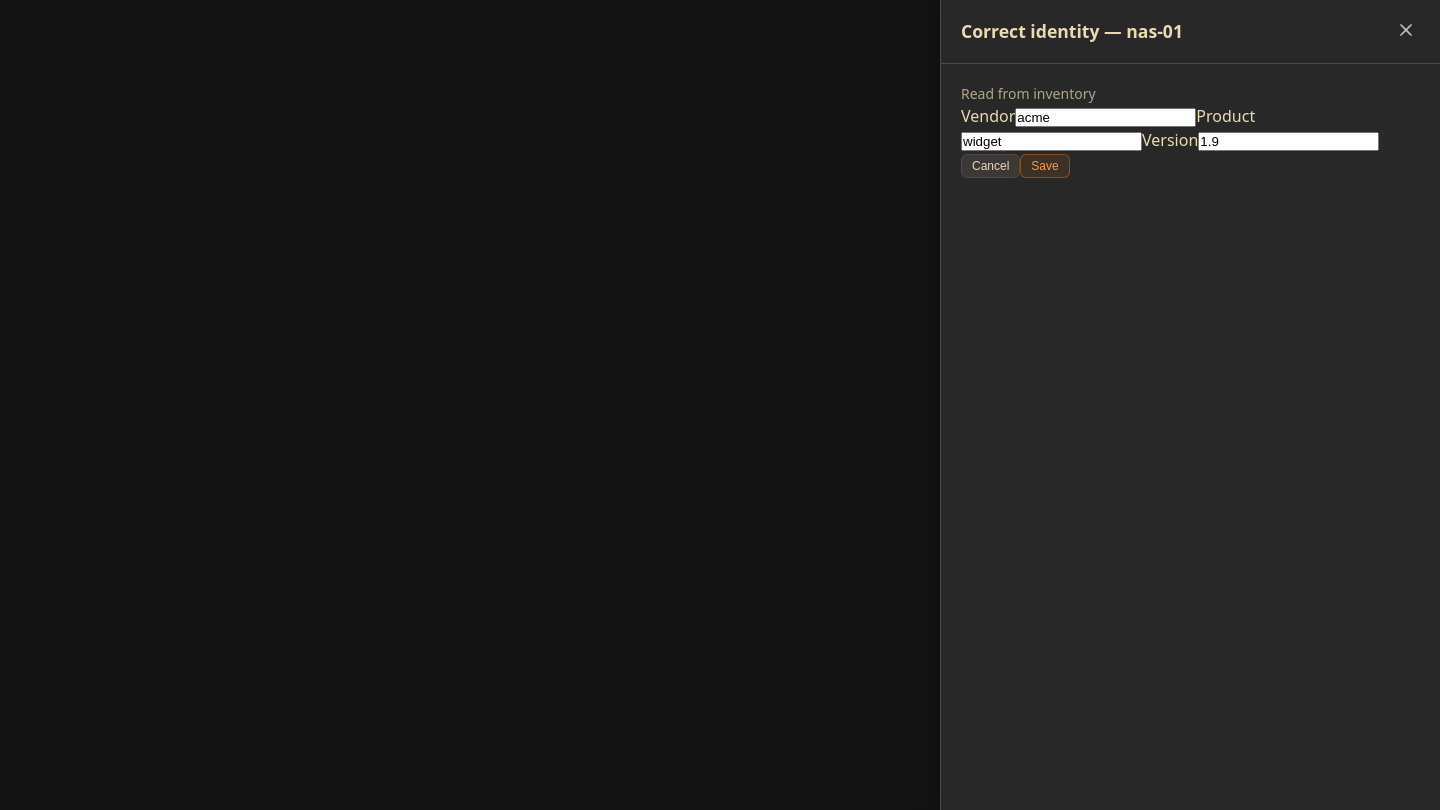
Test: IdentityCorrectionDrawer › keeps what the operator typed when the save is rejected
Replace the text in the field labelled "Product" with "widget-pro" at coordinates (1052, 142), box [961, 132, 1142, 151]
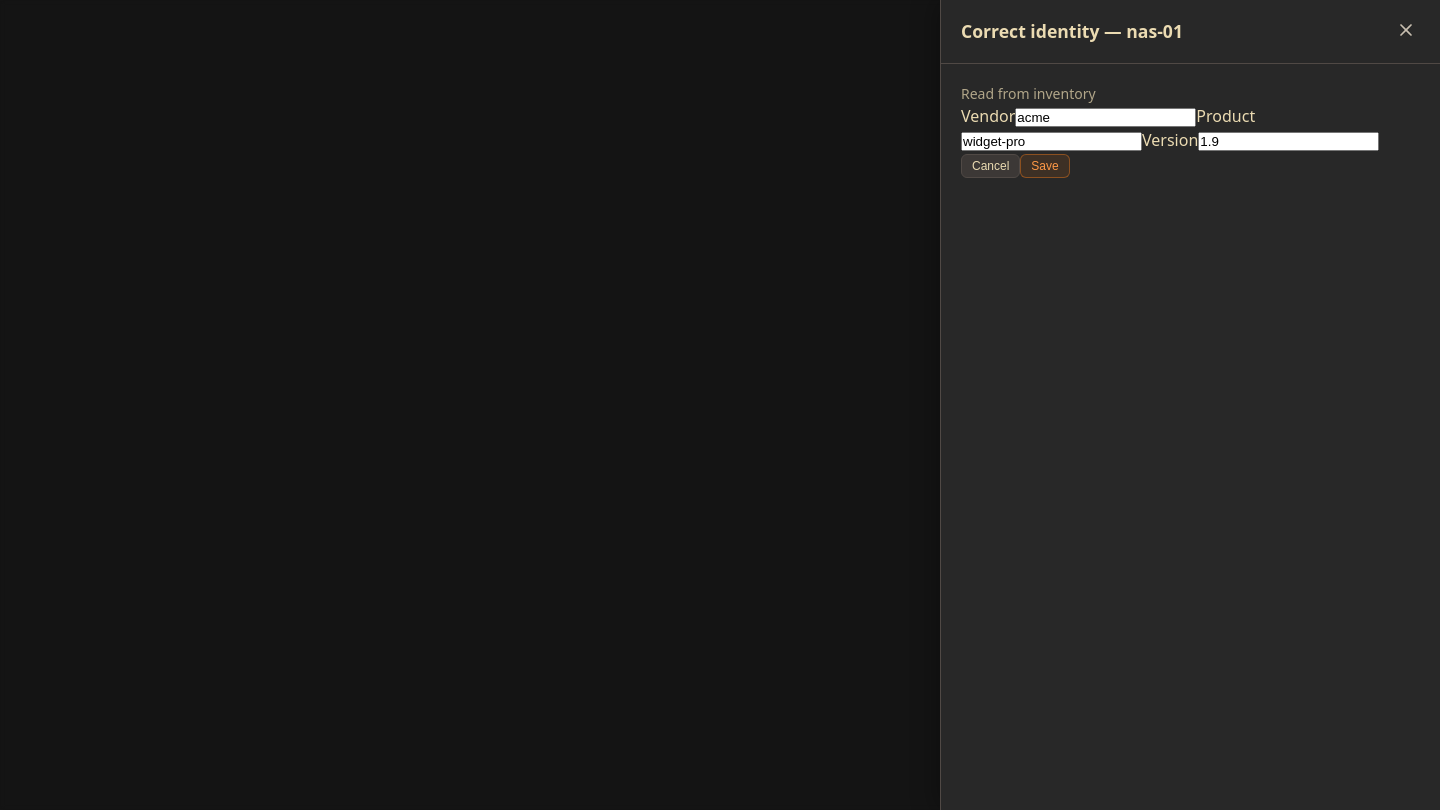
Click the button "Save".
click(1045, 166)  # box [1020, 154, 1070, 178]
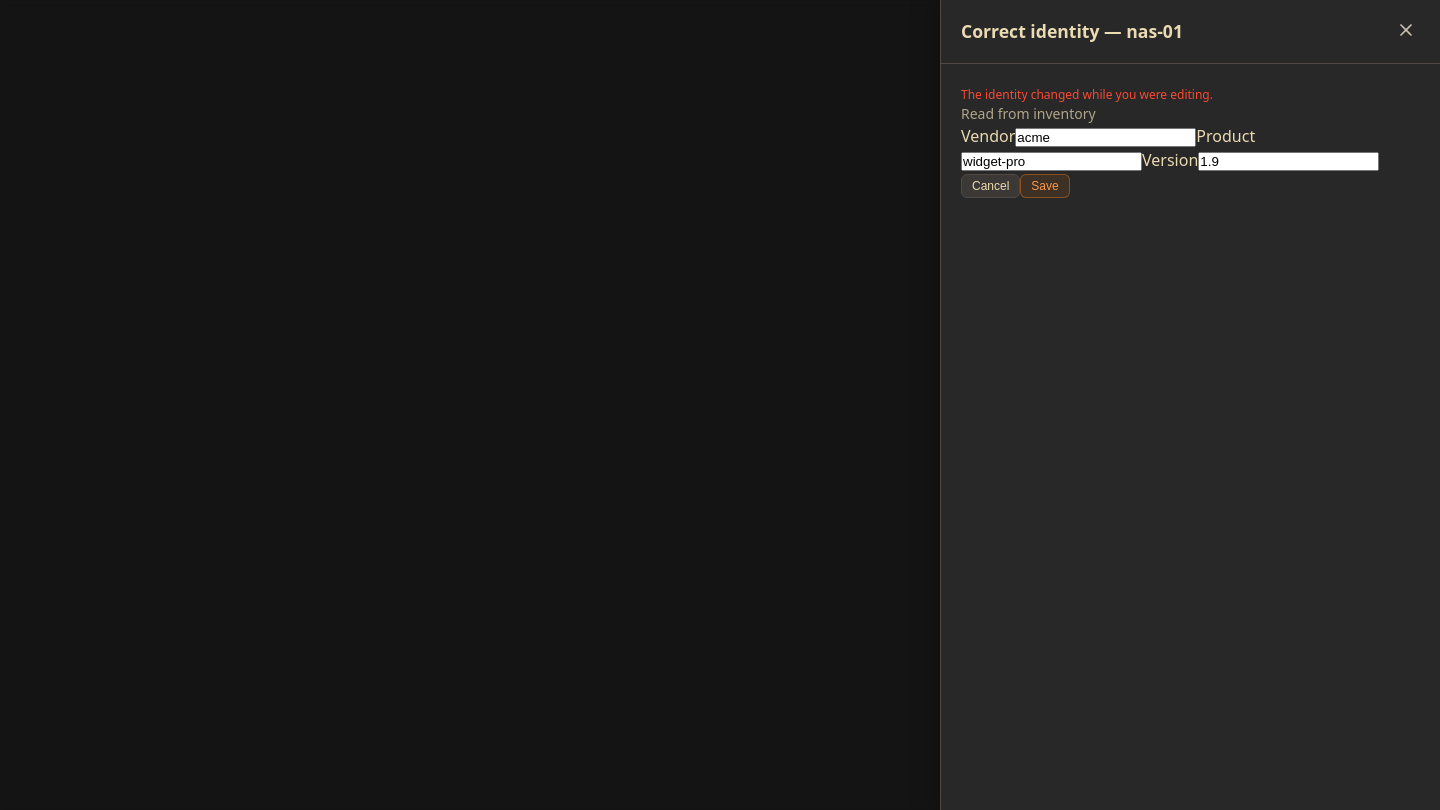
Now the message "The identity changed while you were editing." is shown, box [961, 86, 1213, 103]
